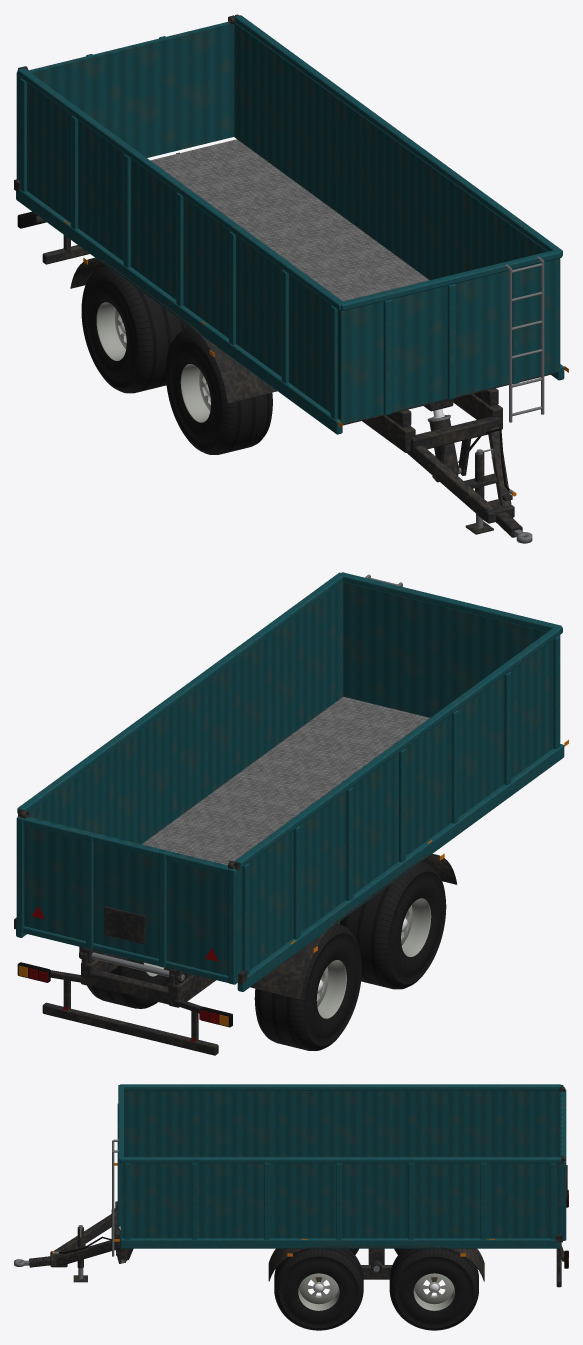
File: trailer_tipper.glb
3 renders of one model, top to bottom at view 1: azimuth 30°, elevation 25°; view 2: azimuth 150°, elevation 25°; view 3: azimuth 270°, elevation 25°, orthographic. The views are drawn at different scales.
Visible parts, largest first — view 1: bed, tailgate, trailer_tipper, wheel_2R, wheel_1R; view 2: bed, tailgate, trailer_tipper, wheel_1R, wheel_2R, wheel_2L; view 3: bed, wheel_2L, wheel_1L, trailer_tipper, tailgate, bogie.
Boxes of the visible parts, x1=… form: bed: x1=14, y1=14, x2=568, y2=434; tailgate: x1=16, y1=15, x2=235, y2=180; trailer_tipper: x1=17, y1=211, x2=532, y2=543; wheel_2R: x1=81, y1=266, x2=187, y2=393; wheel_1R: x1=165, y1=327, x2=272, y2=454; bed: x1=14, y1=572, x2=568, y2=991; tailgate: x1=16, y1=810, x2=238, y2=984; trailer_tipper: x1=17, y1=853, x2=457, y2=1055; wheel_1R: x1=340, y1=862, x2=446, y2=989; wheel_2R: x1=254, y1=923, x2=361, y2=1050; wheel_2L: x1=81, y1=959, x2=169, y2=1008; bed: x1=112, y1=1084, x2=563, y2=1256; wheel_2L: x1=389, y1=1248, x2=478, y2=1330; wheel_1L: x1=274, y1=1248, x2=363, y2=1330; trailer_tipper: x1=14, y1=1190, x2=568, y2=1287; tailgate: x1=559, y1=1086, x2=567, y2=1240; bogie: x1=315, y1=1260, x2=437, y2=1283.
Size of the model in its own units: 2.53 by 2.67 by 7.69.
19 materials, 7 textured.
